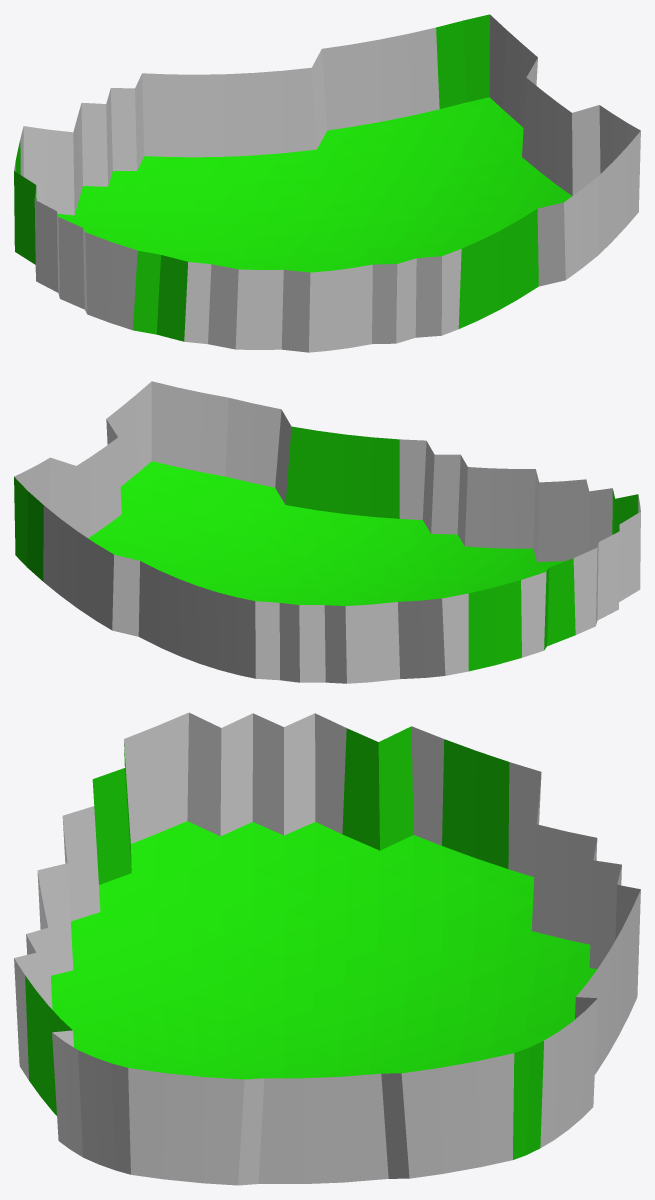
File: southpole.fbx
3 renders of one model, top to bottom at view 1: azimuth 30°, elevation 25°; view 2: azimuth 150°, elevation 25°; view 3: azimuth 270°, elevation 25°, orthographic. The views are drawn at different scales.
Parts seen in each view (by area): view 1: South Pole; view 2: South Pole; view 3: South Pole.
Boxes of the visible parts, left/top/right/bottom form: South Pole: left=14, top=14, right=640, bottom=352; South Pole: left=14, top=381, right=640, bottom=683; South Pole: left=14, top=712, right=640, bottom=1185.
Size of the model in its own units: 825 by 223 by 635.
